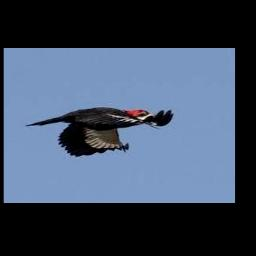Woodpecker: (24, 107, 173, 157)
